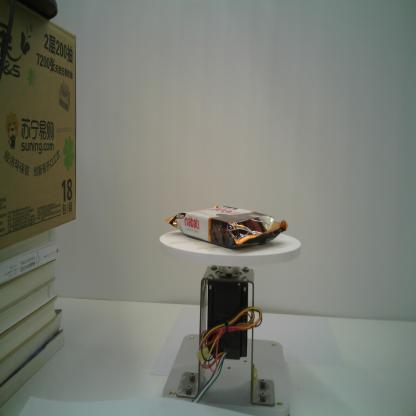Dessert: (166, 203, 288, 250)
